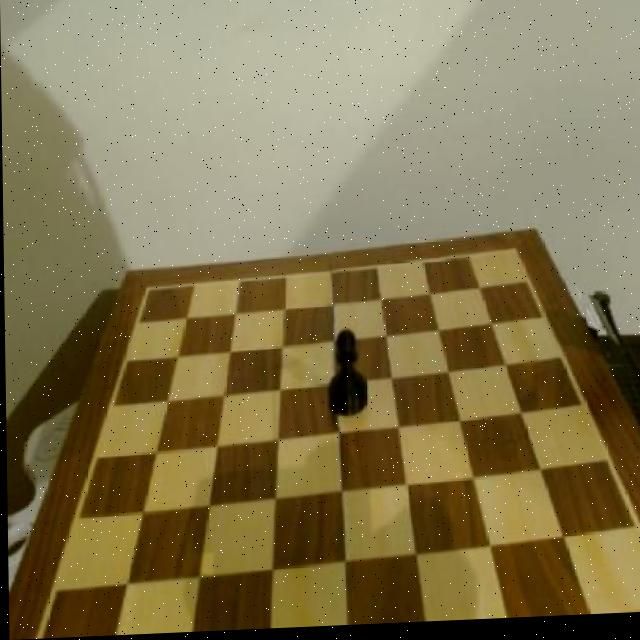black-knight: (326, 325, 374, 430)
